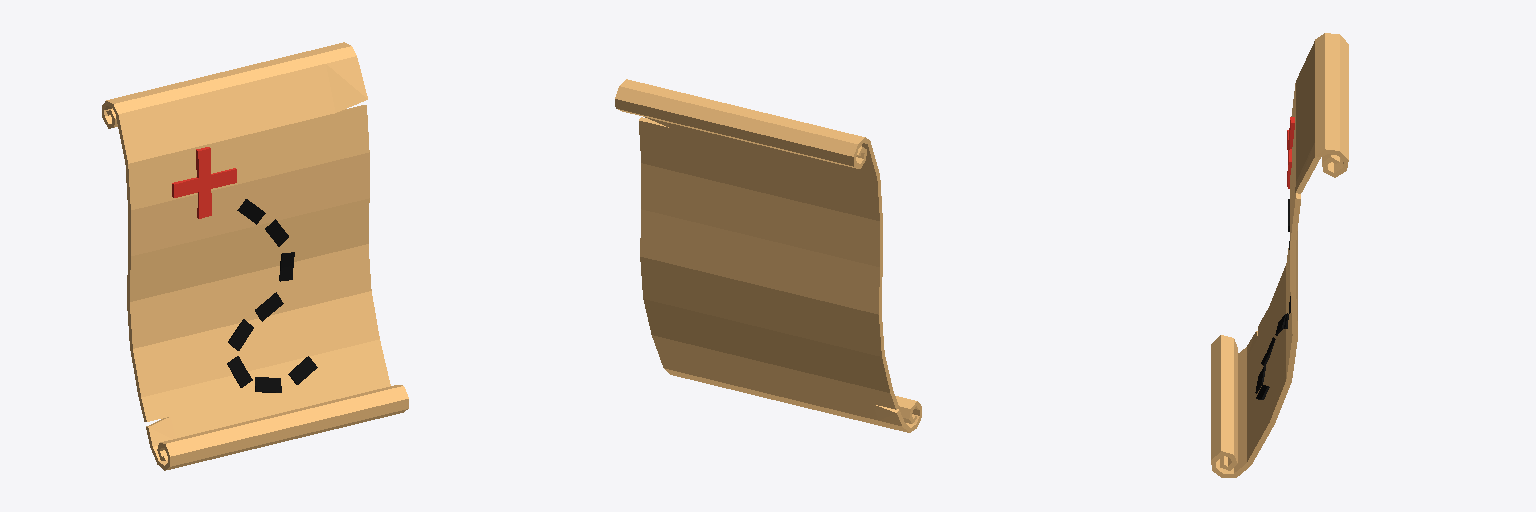
The model's file is VR_Map_01.obj.
3 renders of one model, left to right at view 1: azimuth 30°, elevation 25°; view 2: azimuth 150°, elevation 25°; view 3: azimuth 270°, elevation 25°, orthographic.
Visible parts, largest first — view 1: VR_Map_Cube.029; view 2: VR_Map_Cube.029; view 3: VR_Map_Cube.029.
Part boxes in pixels (x1,y1,x2,y2): VR_Map_Cube.029: (102,42,408,470); VR_Map_Cube.029: (615,79,921,432); VR_Map_Cube.029: (1211,33,1348,477).
Size of the model in its own units: 7.59 by 9.94 by 3.77.